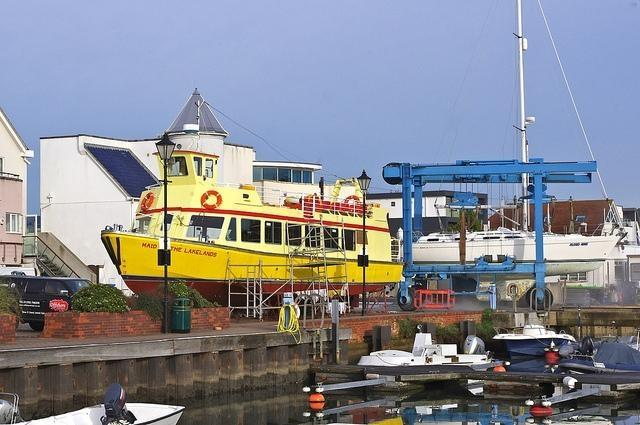car: (4, 276, 95, 332)
truck: (5, 276, 95, 332)
